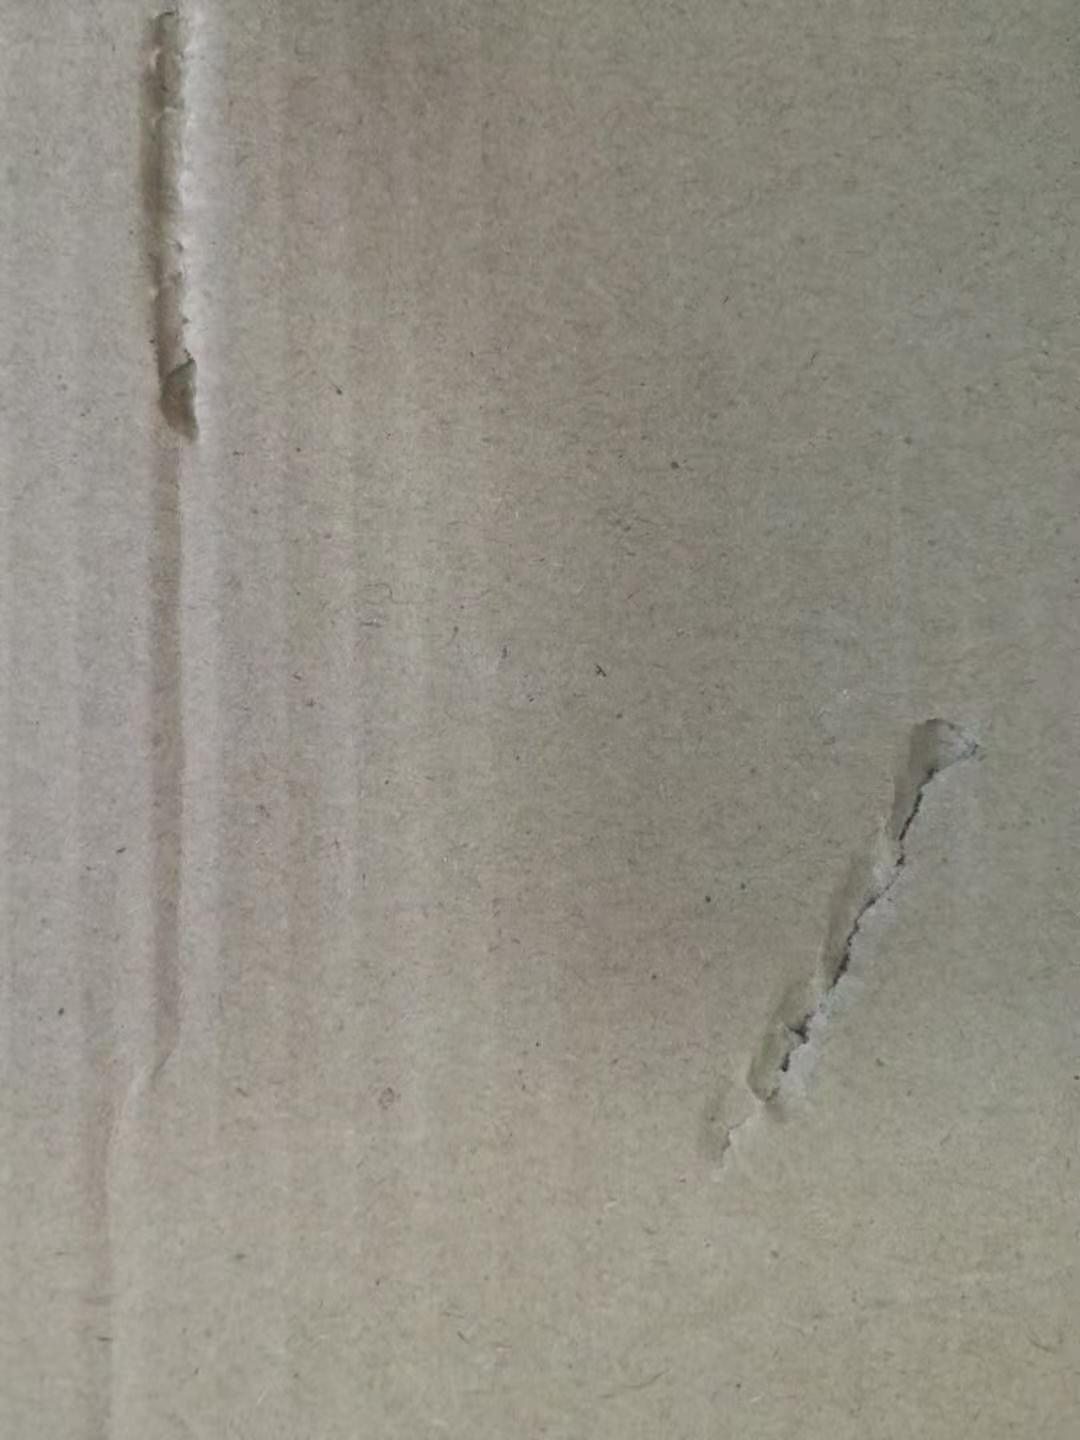defect: (71, 1, 285, 1135), (646, 676, 1012, 1210)
